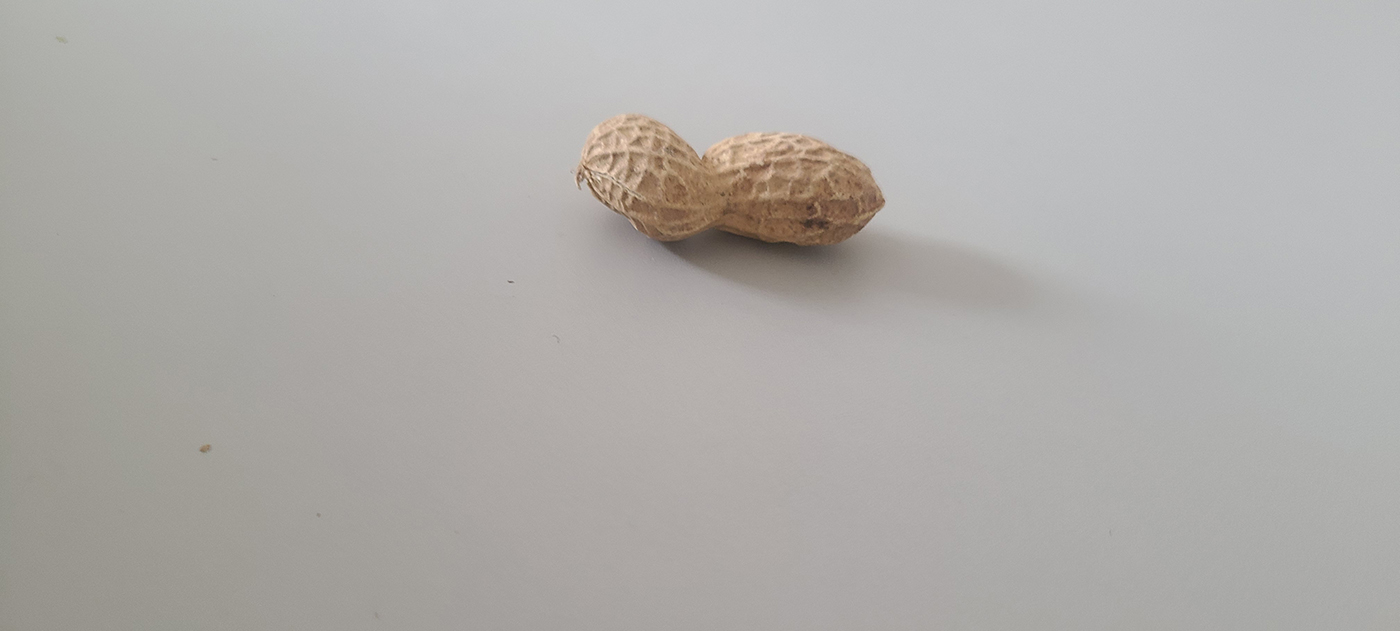h: (575, 111, 882, 249)
